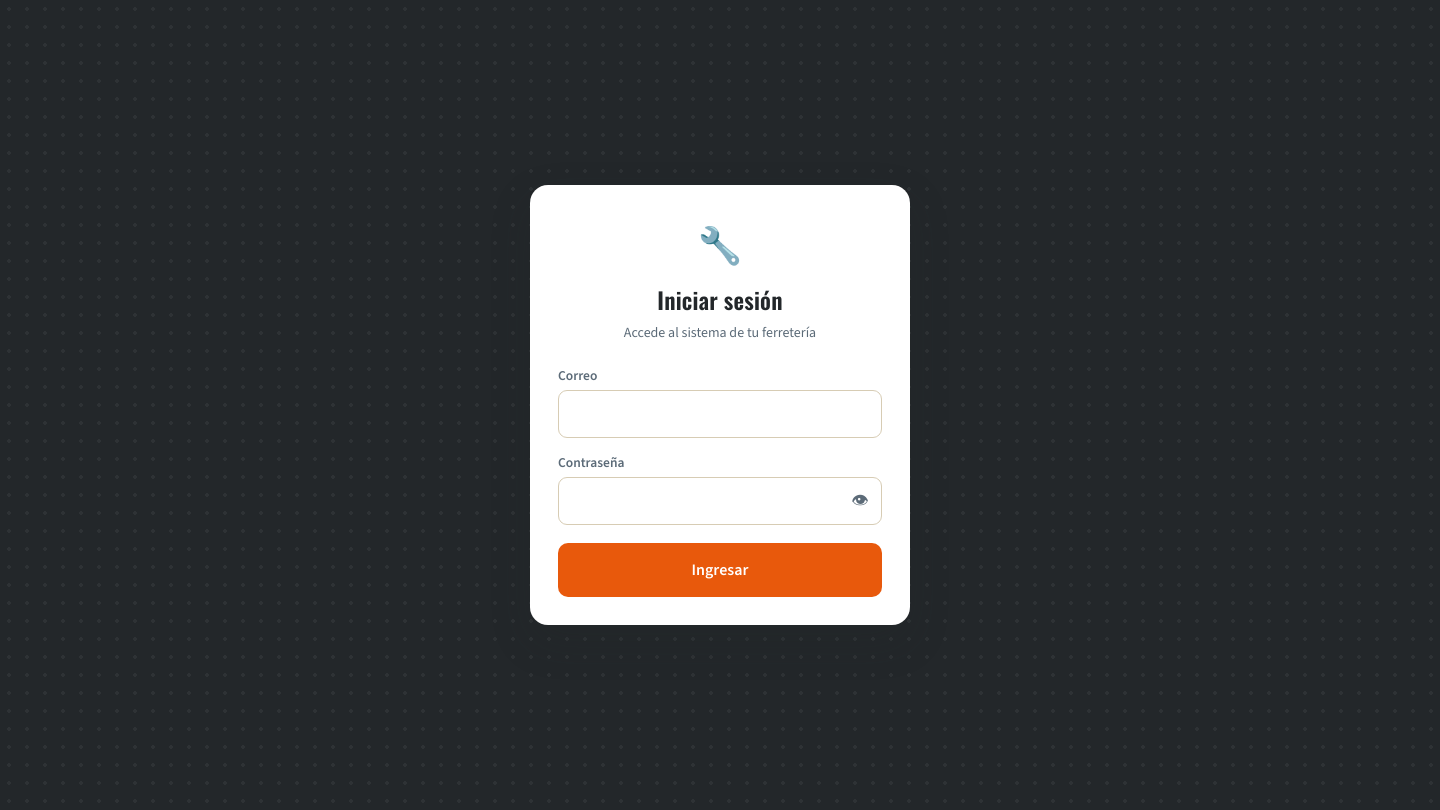
it: Login › explica cuándo la cuenta no está asignada a una ferretería
The width and height of the screenshot is (1440, 810).
In the field labelled "Correo": {"x": 720, "y": 414} [558,390,882,438], type "huerfano@ferreteria.test"
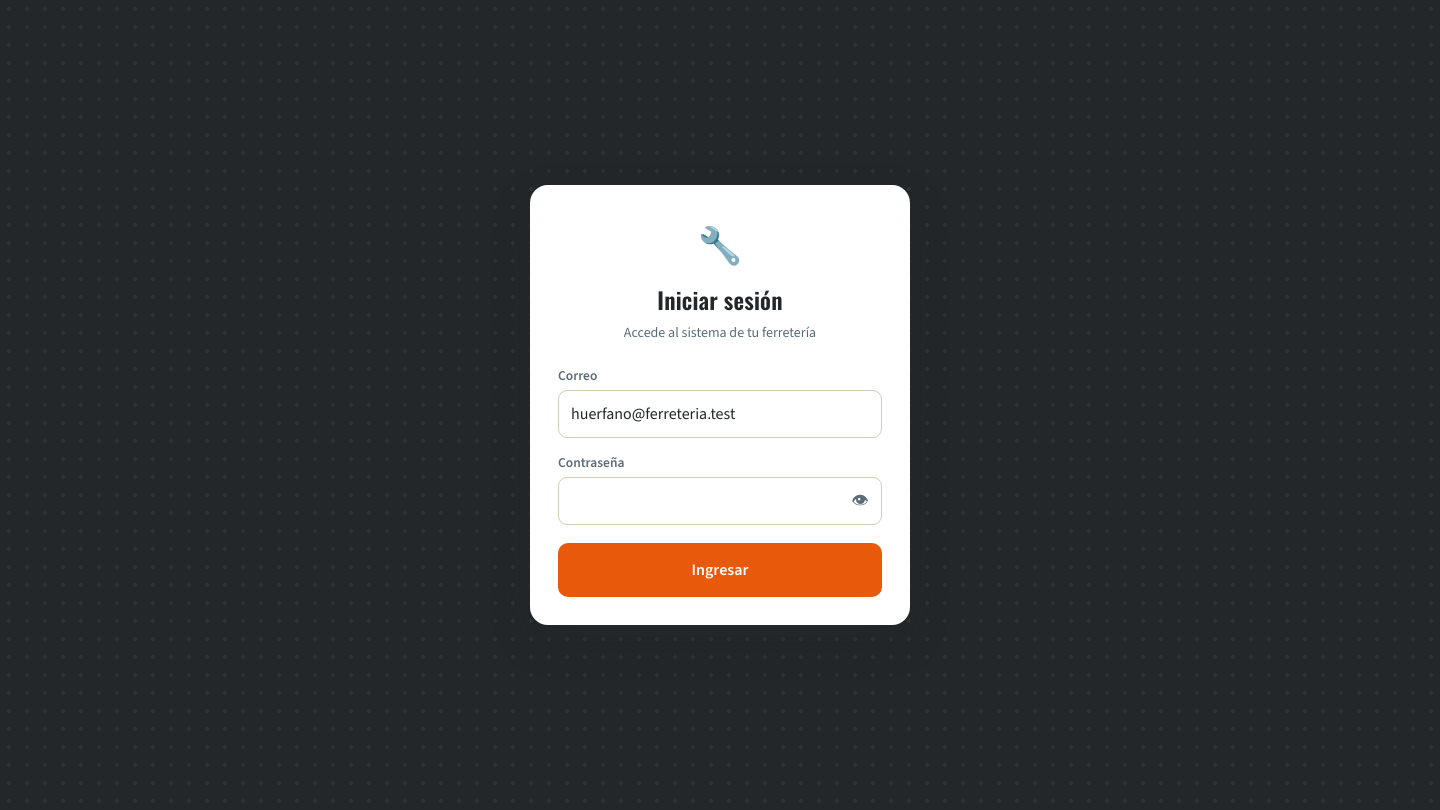
In the password field labelled "Contraseña": {"x": 720, "y": 501} [558,477,882,525], type "Huerf2026"
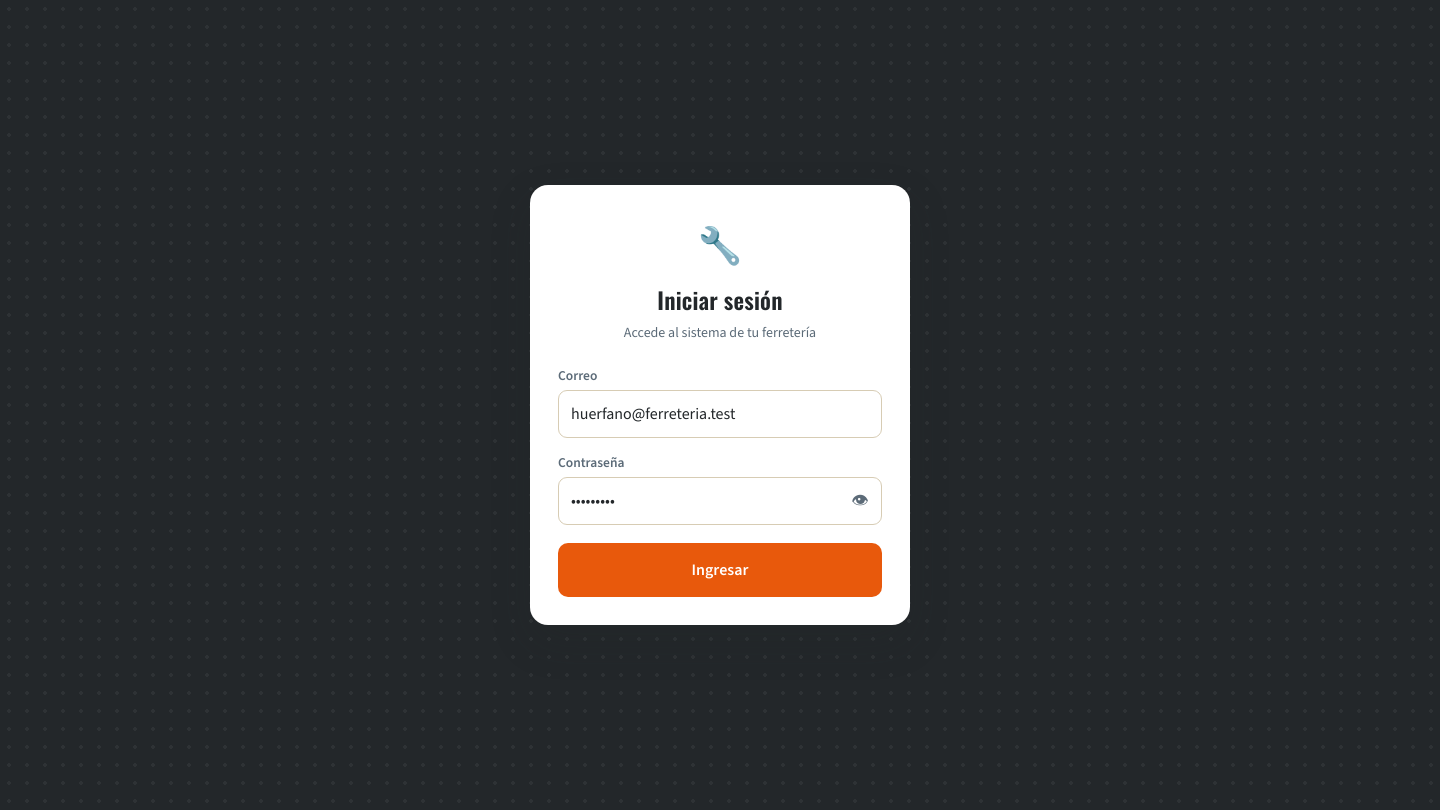
Click the button "Ingresar": {"x": 720, "y": 570} [558,543,882,597]
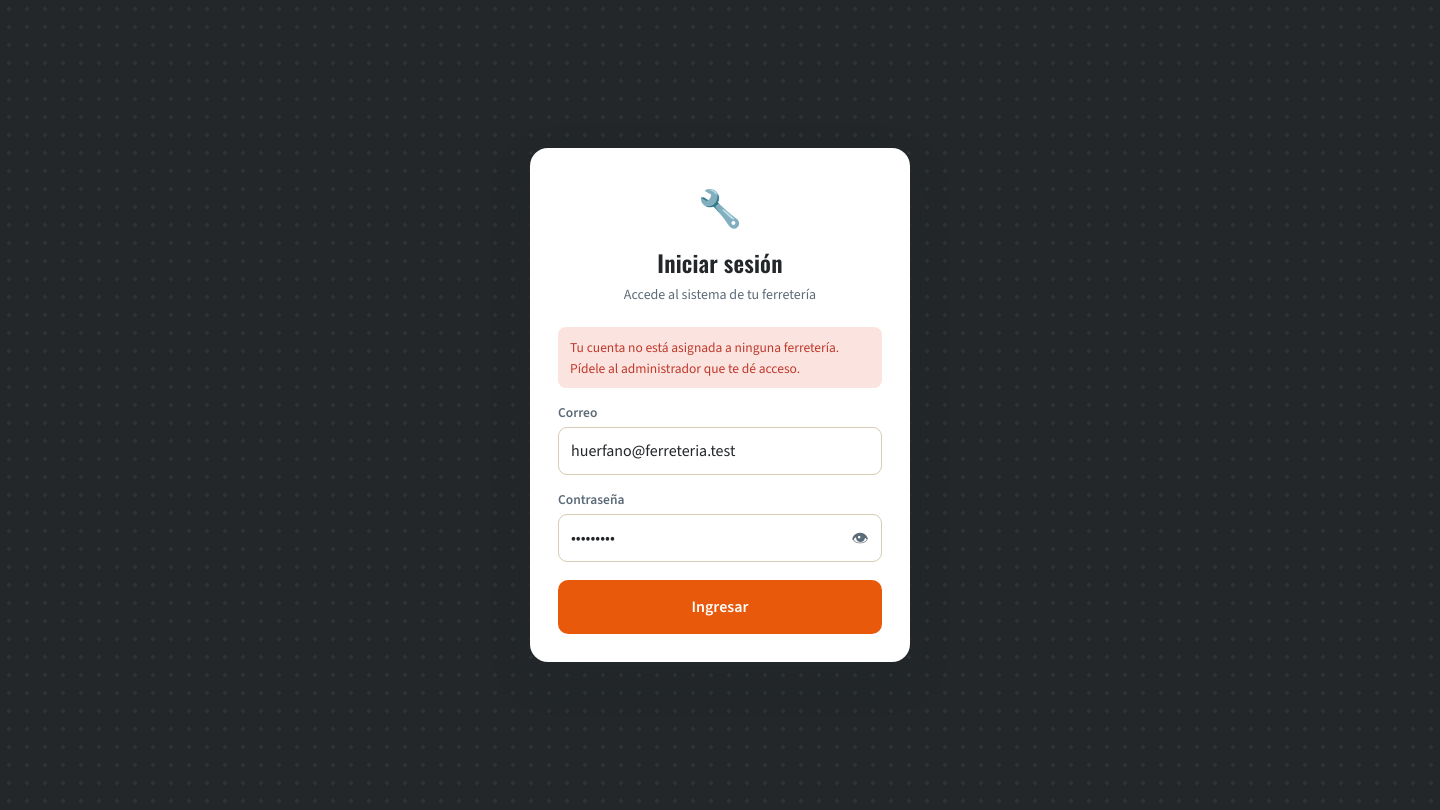
expect the text "no está asignada" is shown: met, box [570,338,839,377]
